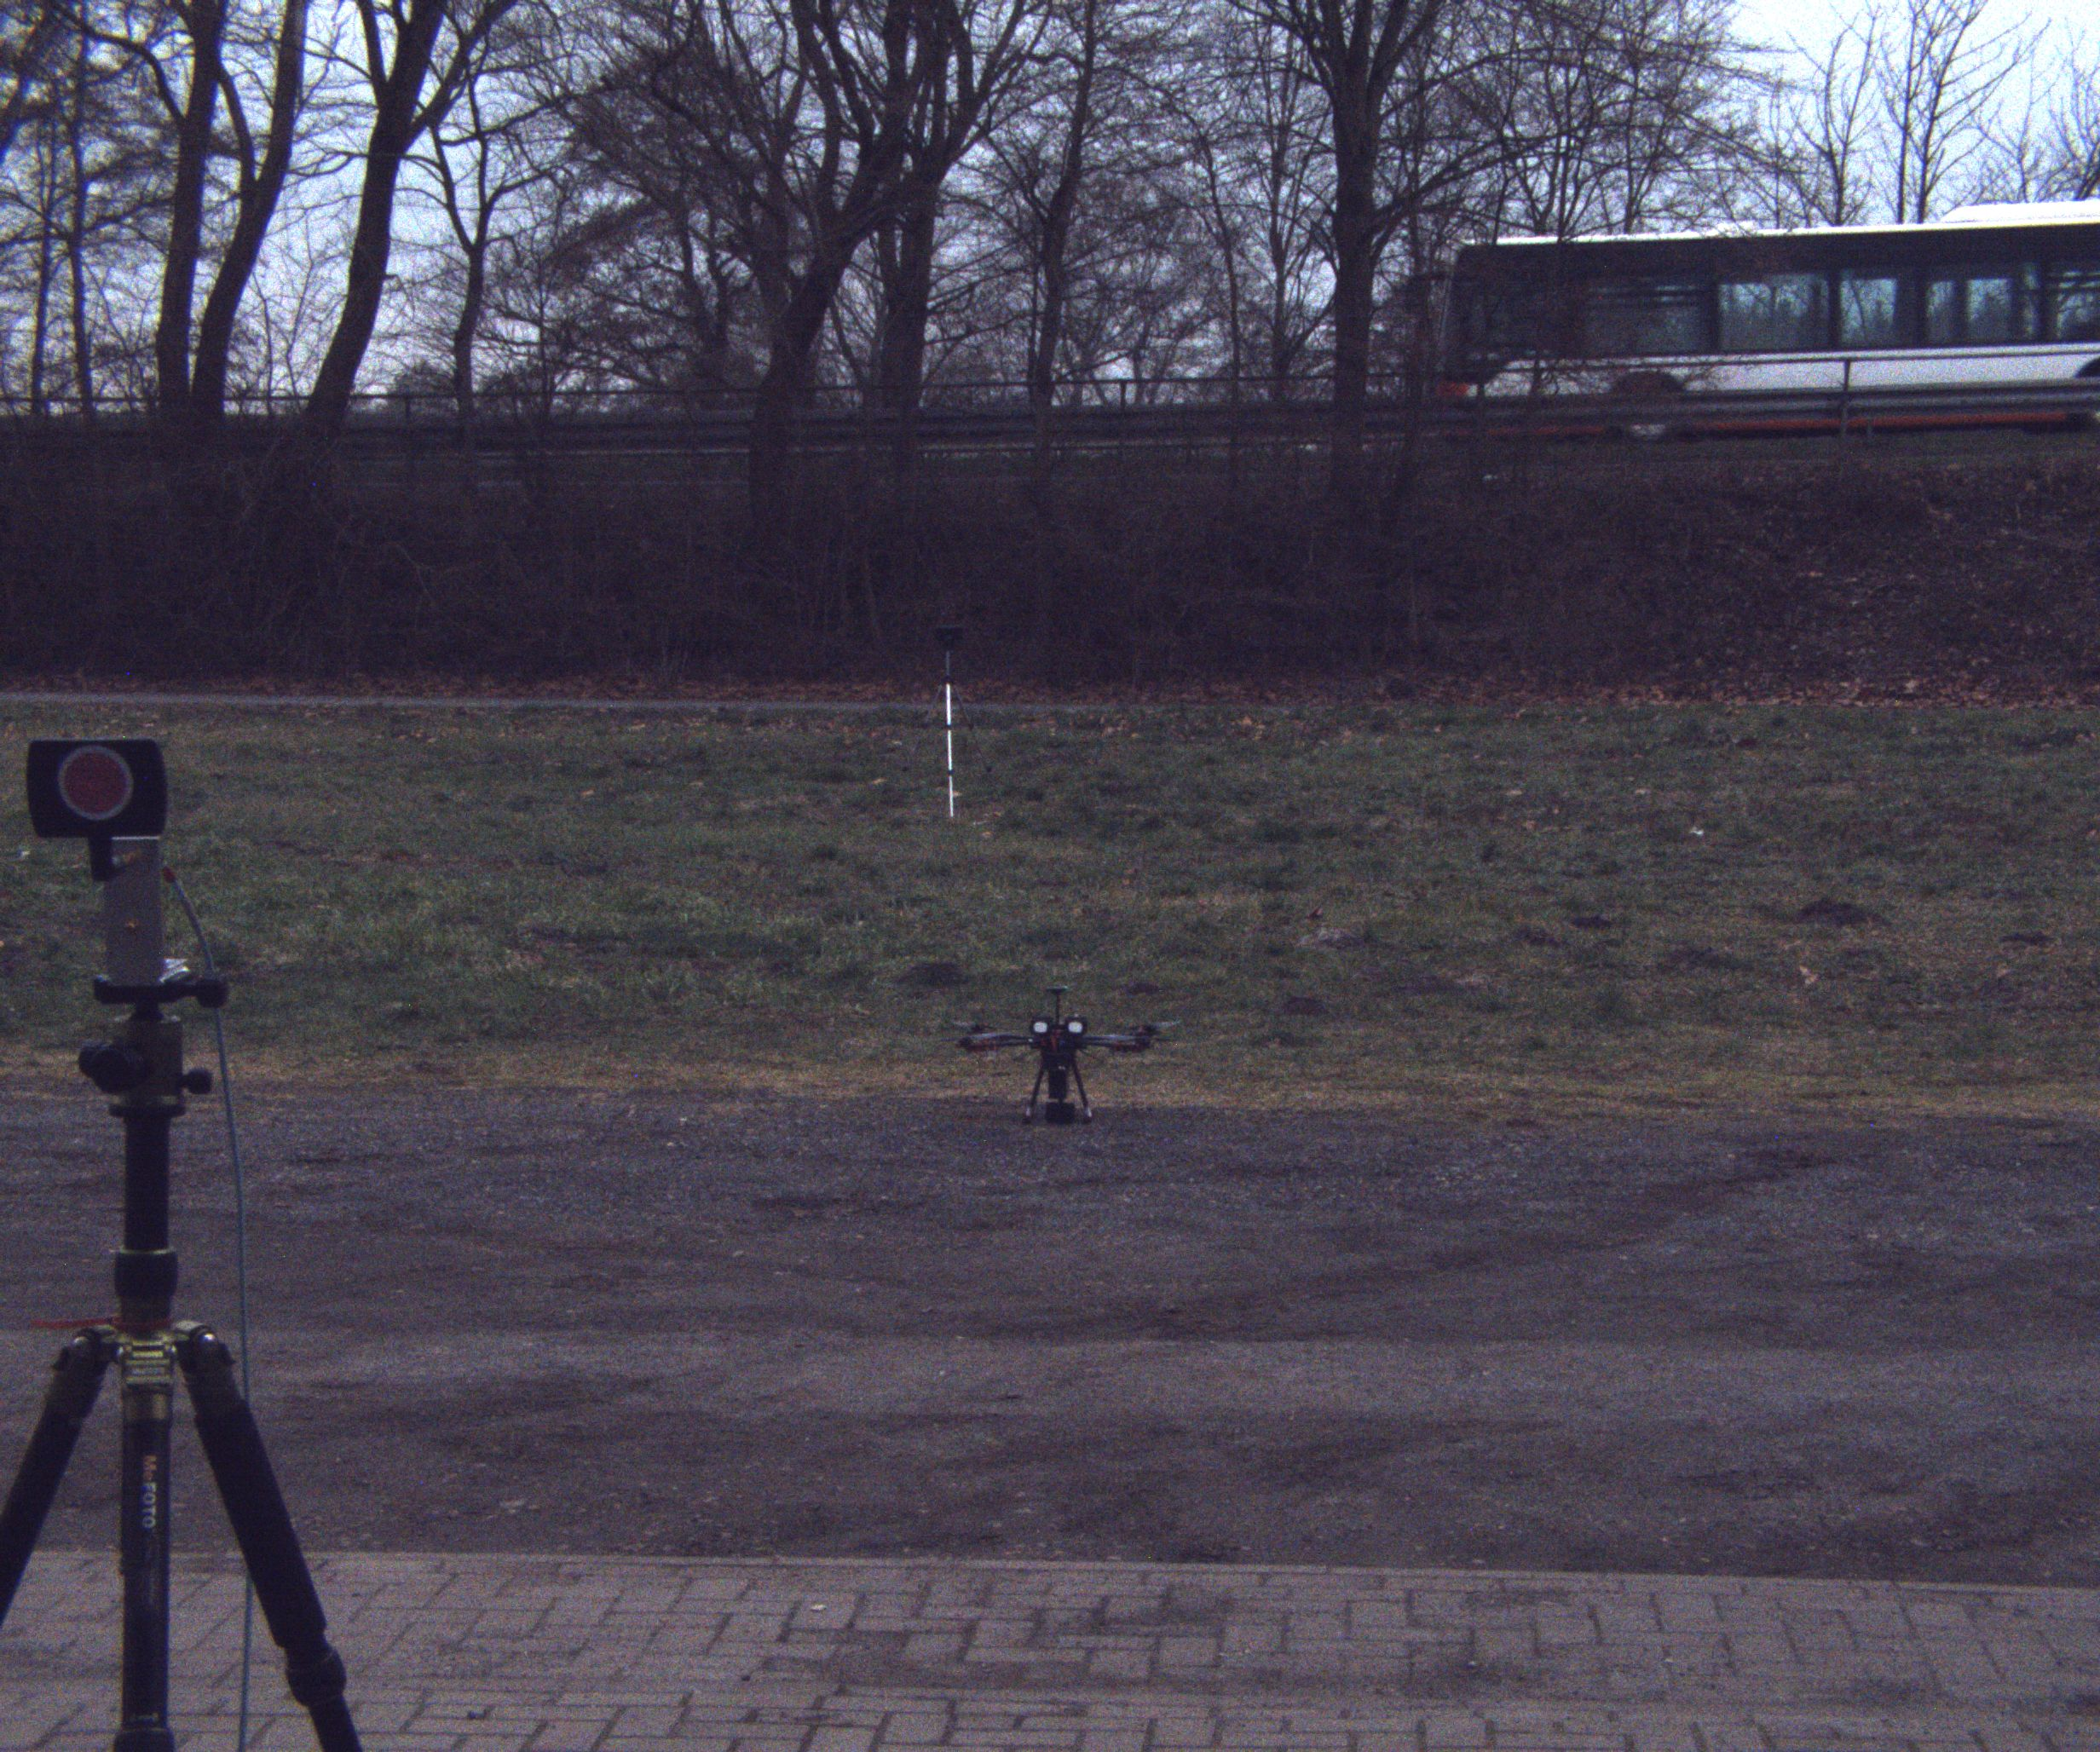Drohne: (937, 973, 1209, 1135)
